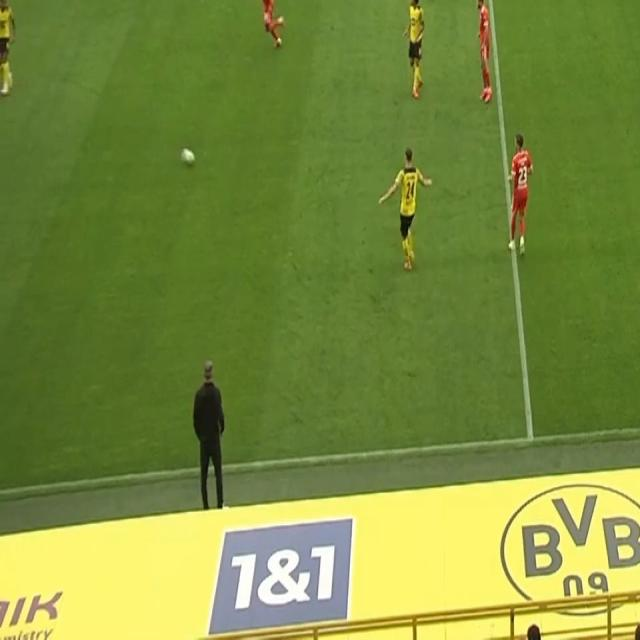ball: (180, 145, 196, 169)
